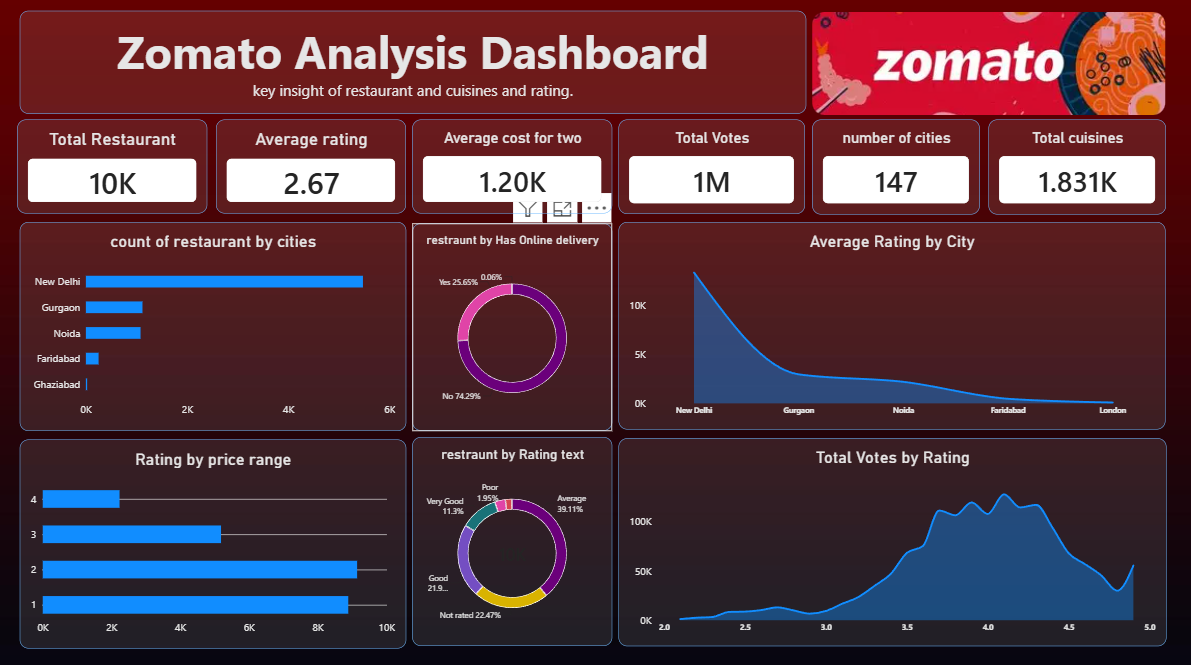

Layout of this report page (visuals, bound fields, positions):
{"tool":"powerbi","page":{"name":"Page 1","canvas":[1920,1080],"ordinal":0},"visuals":[{"type":"clusteredBarChart","title":"Rating by price range","fields":{"Category":["zomato_market_analysis.Price range"],"Y":["Sum(zomato_market_analysis.Aggregate rating)"]},"box":[38,708,618,334],"z":0},{"type":"stackedAreaChart","title":"Average Rating by City","fields":{"Category":["zomato_market_analysis.City"],"Y":["Sum(zomato_market_analysis.Aggregate rating)"]},"box":[996,359,875,332],"z":1000},{"type":"stackedAreaChart","title":"Total Votes by Rating","fields":{"Category":["zomato_market_analysis.Aggregate rating"],"Y":["Sum(zomato_market_analysis.Votes)"]},"box":[996,705,877,333],"z":2000},{"type":"donutChart","fields":{"Category":["zomato_market_analysis.Has Online delivery"],"Y":["zomato_market_analysis.restraunt"]},"box":[666,362,320,332],"z":3000},{"type":"donutChart","fields":{"Category":["zomato_market_analysis.Rating text"],"Y":["zomato_market_analysis.restraunt"]},"box":[666,704,320,334],"z":4000},{"type":"textbox","box":[37.3,22.7,1258.2,164.5],"z":5000},{"type":"cardVisual","title":"Total Restaurant","fields":{"Data":["zomato_market_analysis.restraunt"]},"box":[34.5,196.4,304,150],"z":6000},{"type":"cardVisual","title":"Average rating","fields":{"Data":["Avg(zomato_market_analysis.Aggregate rating)"]},"box":[351.8,196.4,304,150],"z":7000},{"type":"cardVisual","title":"Average cost for two","fields":{"Data":["Avg(zomato_market_analysis.Average Cost for two)"]},"box":[665.7,195.7,320,150],"z":8000},{"type":"cardVisual","title":"Total Votes","fields":{"Data":["Sum(zomato_market_analysis.Votes)"]},"box":[995.7,195.7,298.6,151.4],"z":9000},{"type":"clusteredBarChart","title":"count of restaurant by cities","fields":{"Category":["zomato_market_analysis.City"],"Y":["CountNonNull(zomato_market_analysis.Restaurant ID)"]},"box":[38,360,618,334],"z":10000},{"type":"image","box":[1305,23,565,165],"z":12000},{"type":"cardVisual","title":"Total cuisines","fields":{"Data":["Count(zomato_market_analysis.Cuisines)"]},"box":[1588,196,284,152],"z":12001},{"type":"cardVisual","title":"number of cities","fields":{"Data":["Count(zomato_market_analysis.City)"]},"box":[1306,196,268,152],"z":12002}]}

Visuals, with their boxes in screenshot pixels (x1, y1, x2, y2), scaled from the page's 1920x1080 canvas onto the 1191x665 screenshot:
"Rating by price range" clusteredBarChart: 24,436,407,642
"Average Rating by City" stackedAreaChart: 618,221,1161,425
"Total Votes by Rating" stackedAreaChart: 618,434,1162,639
donutChart - zomato_market_analysis.Has Online delivery x zomato_market_analysis.restraunt: 413,223,612,427
donutChart - zomato_market_analysis.Rating text x zomato_market_analysis.restraunt: 413,433,612,639
textbox: 23,14,804,115
"Total Restaurant" cardVisual: 21,121,210,213
"Average rating" cardVisual: 218,121,407,213
"Average cost for two" cardVisual: 413,121,611,213
"Total Votes" cardVisual: 618,121,803,214
"count of restaurant by cities" clusteredBarChart: 24,222,407,427
image: 810,14,1160,116
"Total cuisines" cardVisual: 985,121,1161,214
"number of cities" cardVisual: 810,121,976,214
